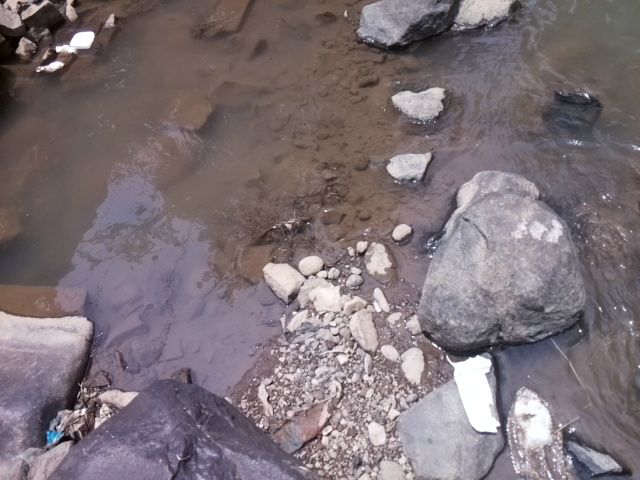Sampah_Plastik: (506, 388, 578, 480)
Sampah_Styrofoam: (444, 354, 504, 437), (65, 29, 96, 52)
